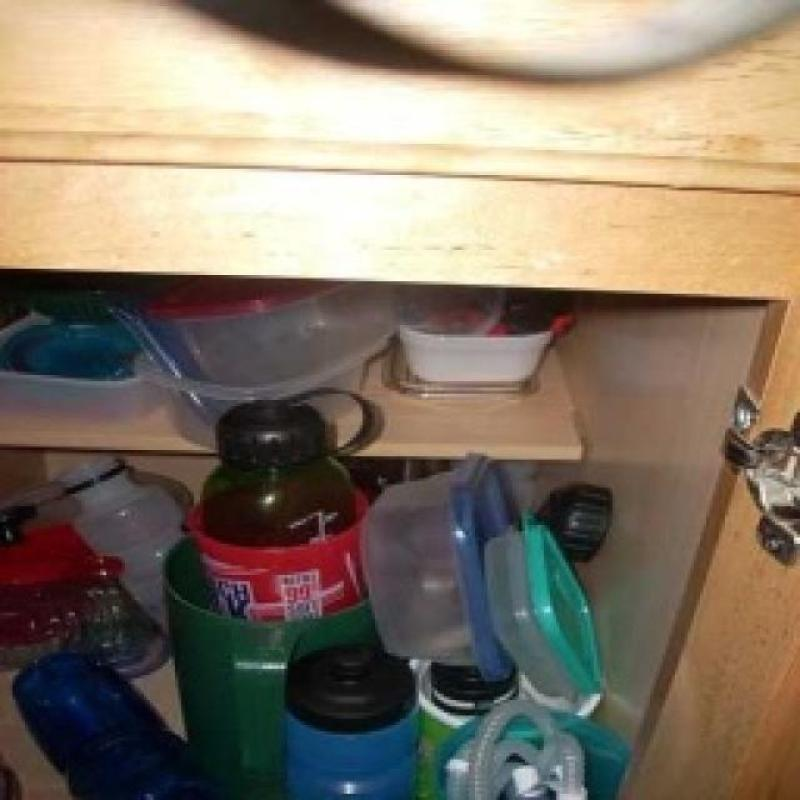botella: (55, 456, 193, 638), (0, 579, 162, 673)
